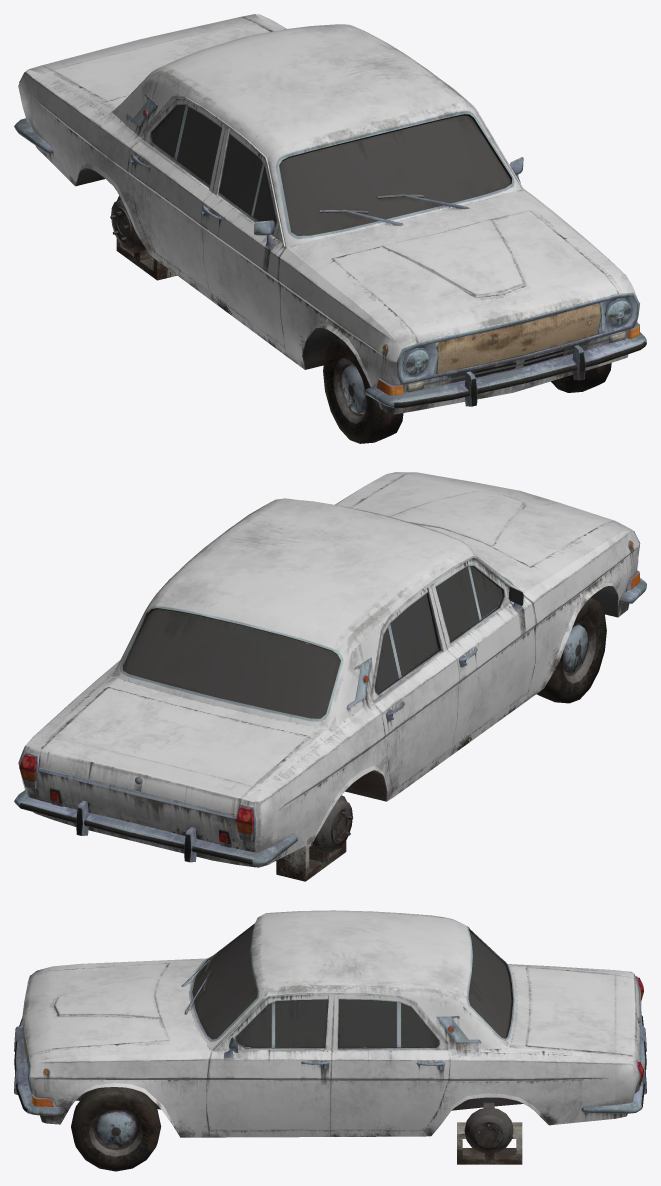
File: gaz-24-8492f9.glb
The picture shows the model from 3 angles, top to bottom: view 1: azimuth 30°, elevation 25°; view 2: azimuth 150°, elevation 25°; view 3: azimuth 270°, elevation 25°; orthographic projection. The views are drawn at different scales.
Visible parts, largest first — view 1: body, wheel-front-right, wheel-back-right, wheel-front-left; view 2: body, wheel-front-right, wheel-back-right; view 3: body, wheel-front-left, wheel-back-left.
Boxes of the visible parts, bbox=[...] form: body: bbox=[14, 14, 646, 414]; wheel-front-right: bbox=[323, 338, 403, 443]; wheel-back-right: bbox=[110, 196, 176, 280]; wheel-front-left: bbox=[551, 363, 611, 392]; body: bbox=[14, 472, 646, 867]; wheel-front-right: bbox=[536, 598, 606, 703]; wheel-back-right: bbox=[276, 795, 353, 881]; body: bbox=[14, 910, 646, 1137]; wheel-front-left: bbox=[71, 1087, 161, 1171]; wheel-back-left: bbox=[457, 1102, 522, 1164].
Size of the model in its own units: 1.85 by 1.51 by 4.7.
2 materials, 2 textured.
